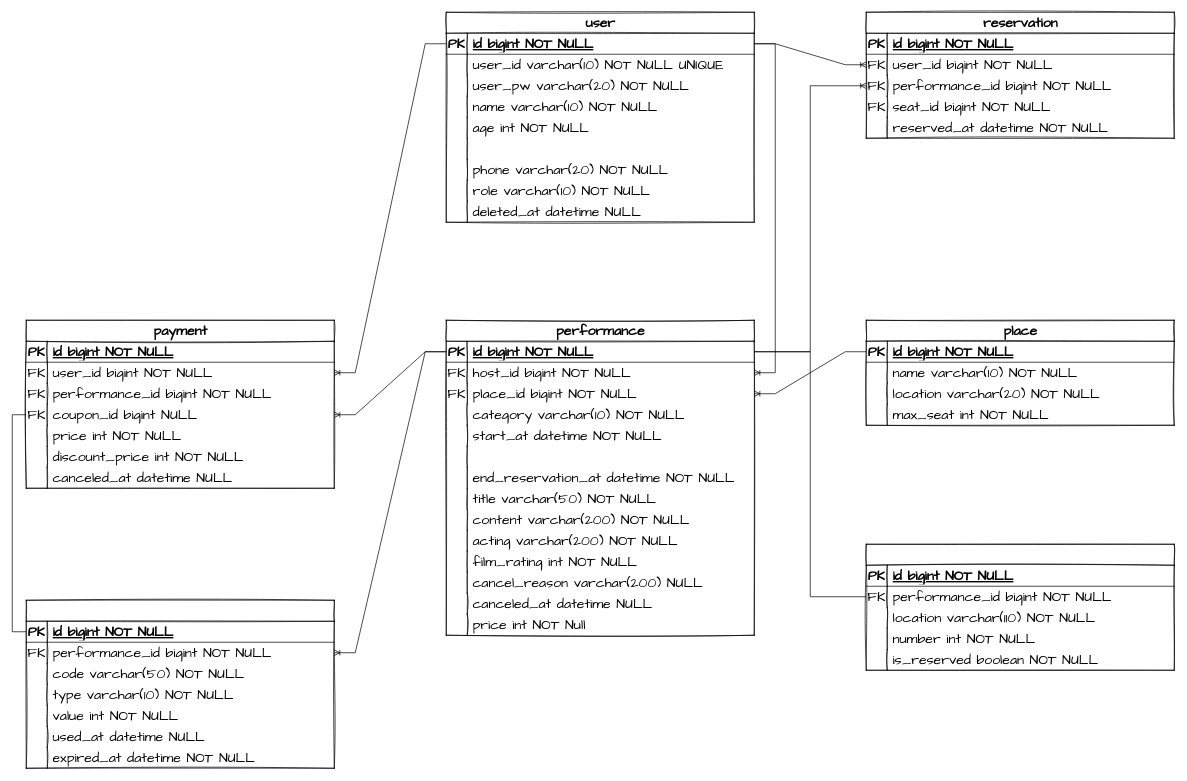
Some shapes in this 1187 by 781 pixel diagram are drawn without their labels. The shapes that lost their labels are listed below. From the top down, each one's box as (x1, y1, x2, y2) in pixels, then its label:
(866, 544, 1174, 670): seat
(26, 600, 334, 768): coupon
